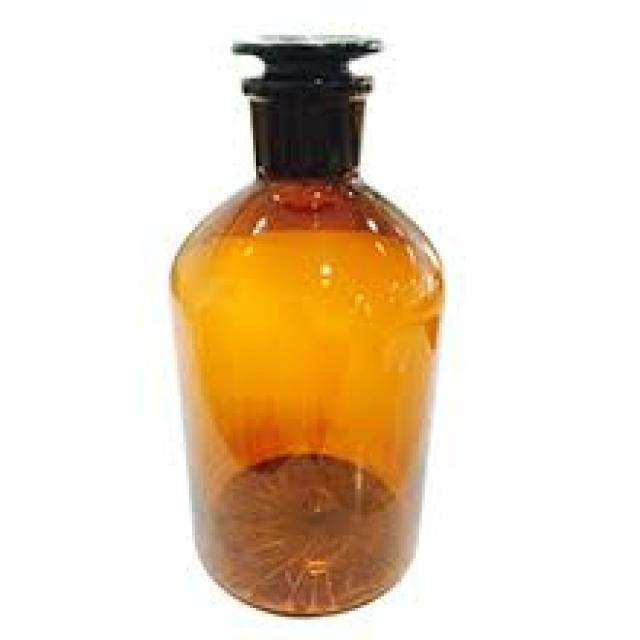glass: (169, 177, 442, 611)
